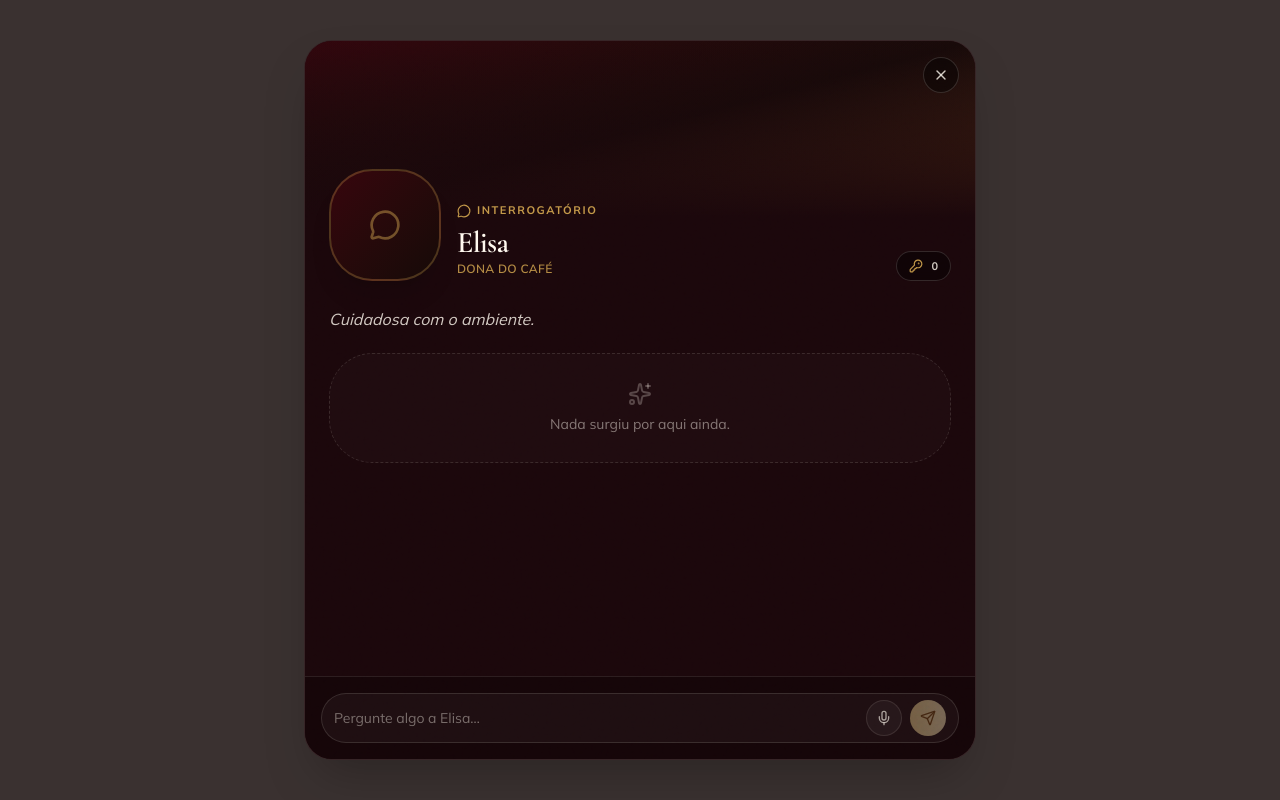
it: InvestigationPanel › sends an interaction and shows the character reply
In the field with placeholder "Pergunte algo a Elisa…": (596, 718) [334,700,858,736], type "O que você viu?"
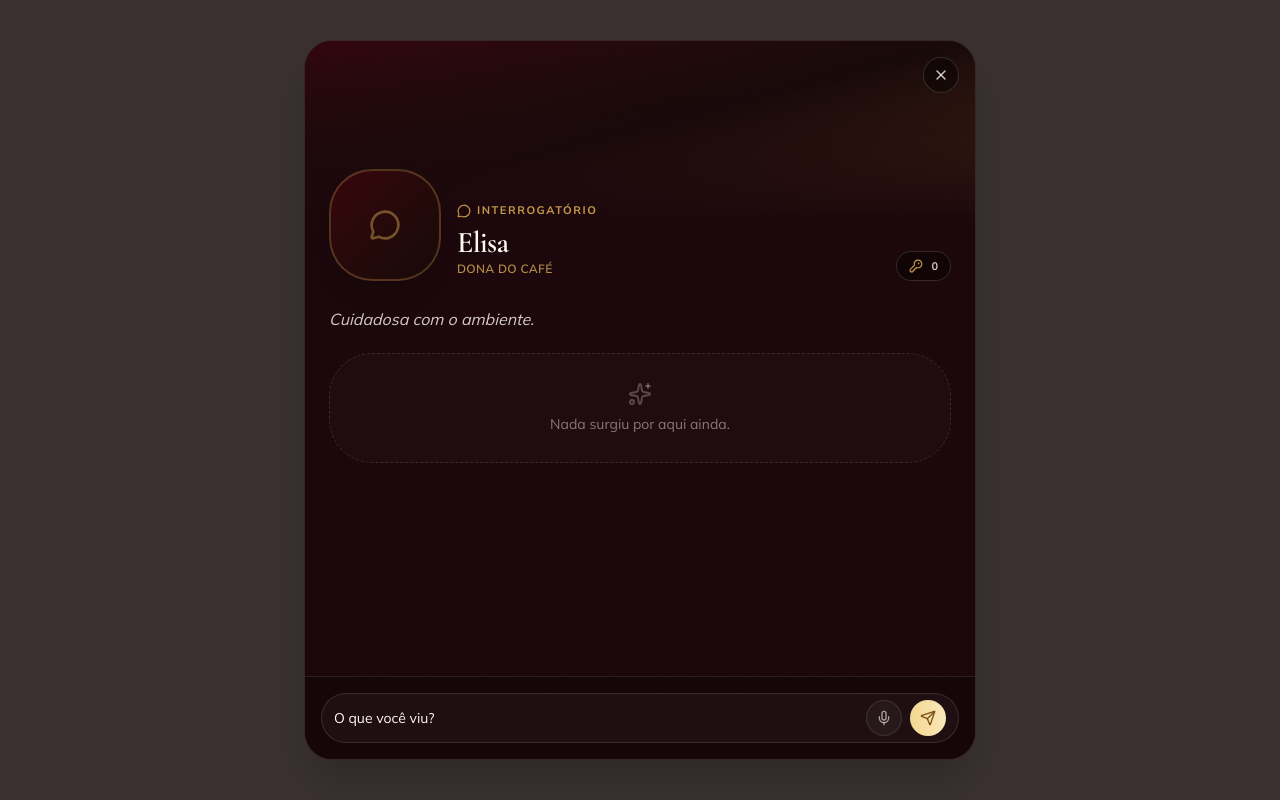
Click the button named "Enviar": (928, 718) [910,700,946,736]
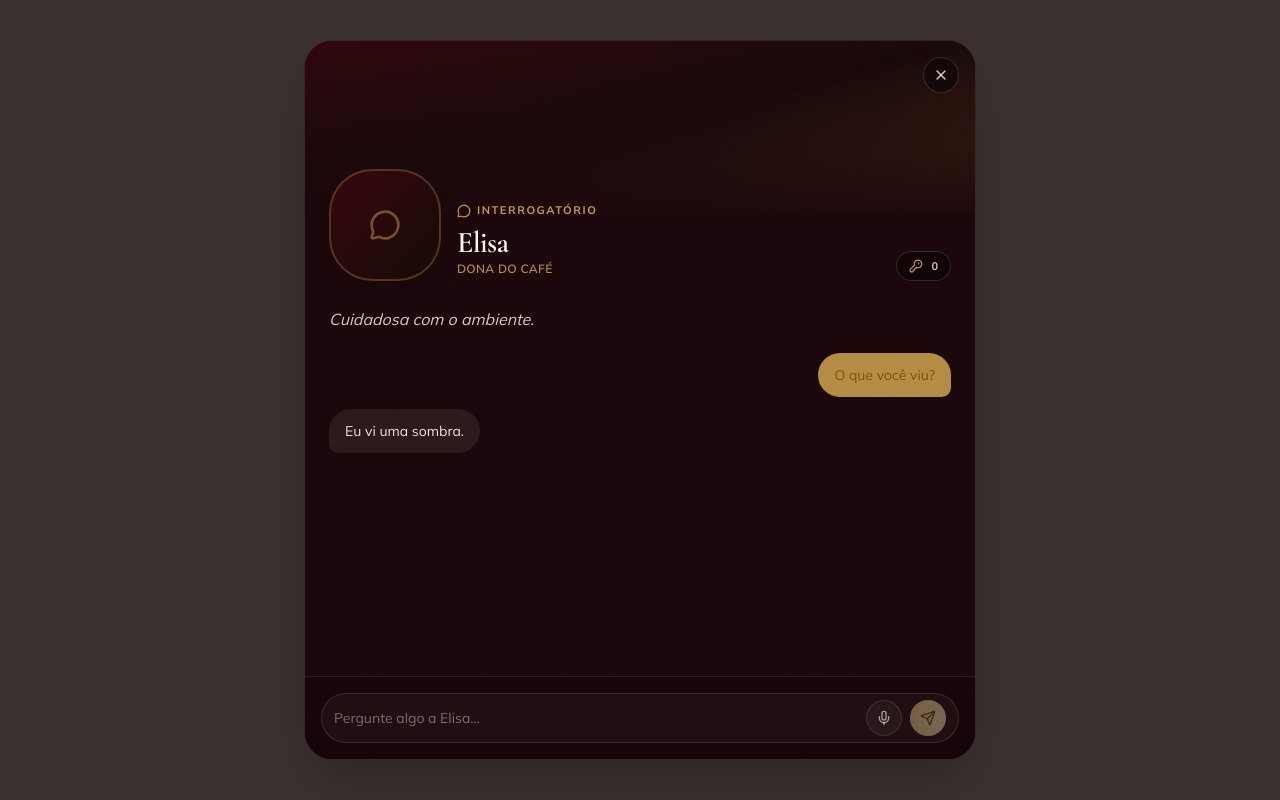
Now the text "Eu vi uma sombra." is shown, box [329,409,480,453]
